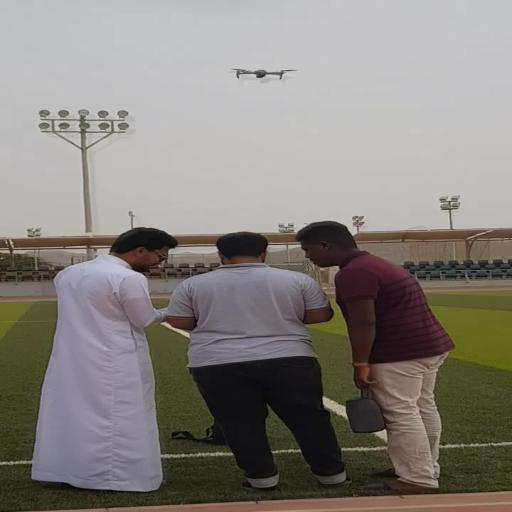drone: (230, 69, 298, 80)
